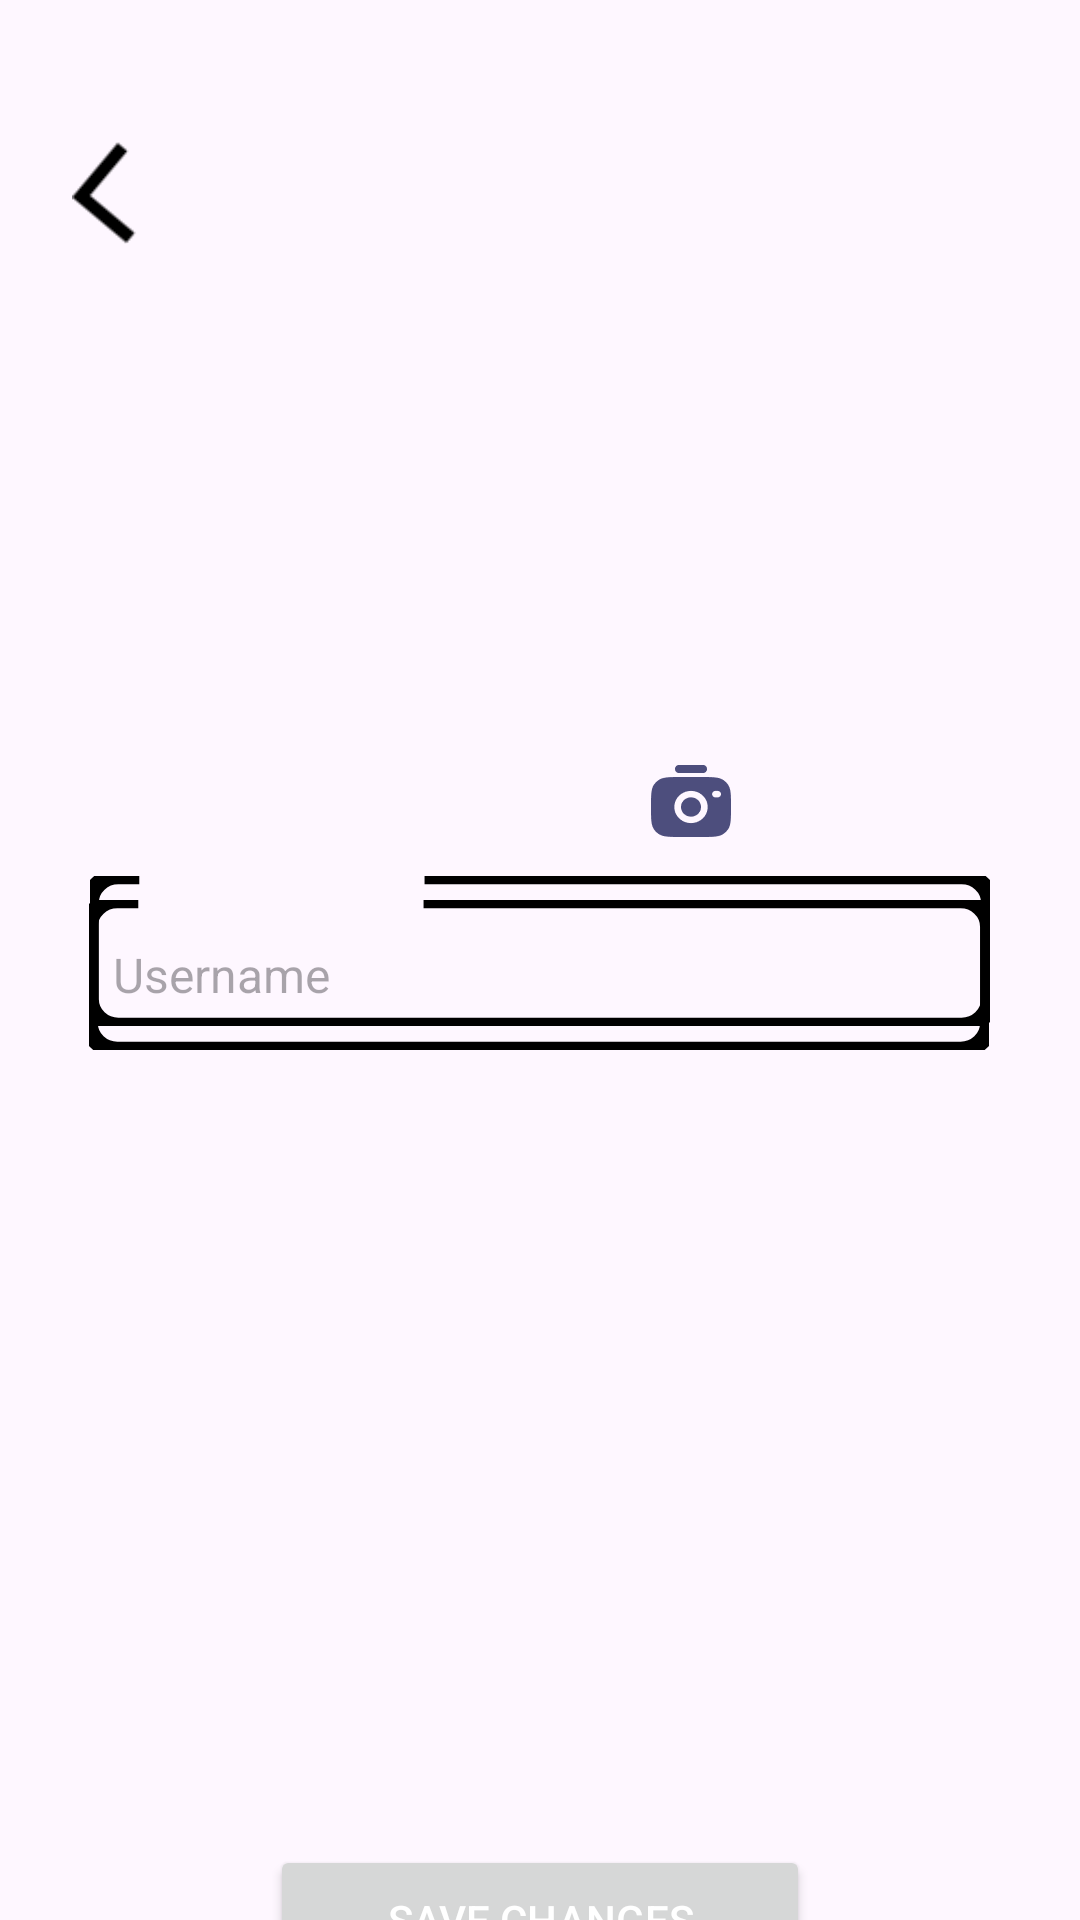

Point at icon controls on the screen. Image size 1080×1920, points as point (x, y).
camera: point (691, 801)
